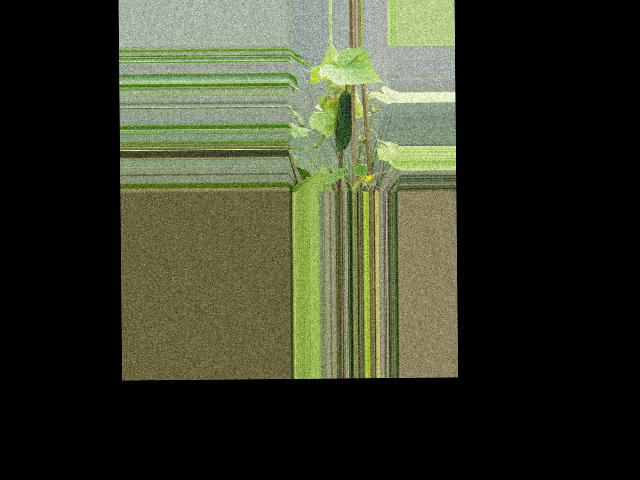cucumber: (334, 91, 352, 151)
